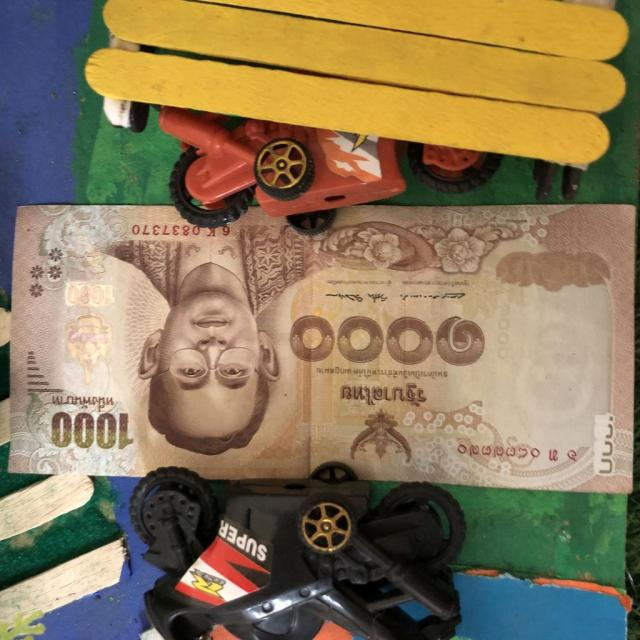THAI1000: (8, 206, 636, 498)
